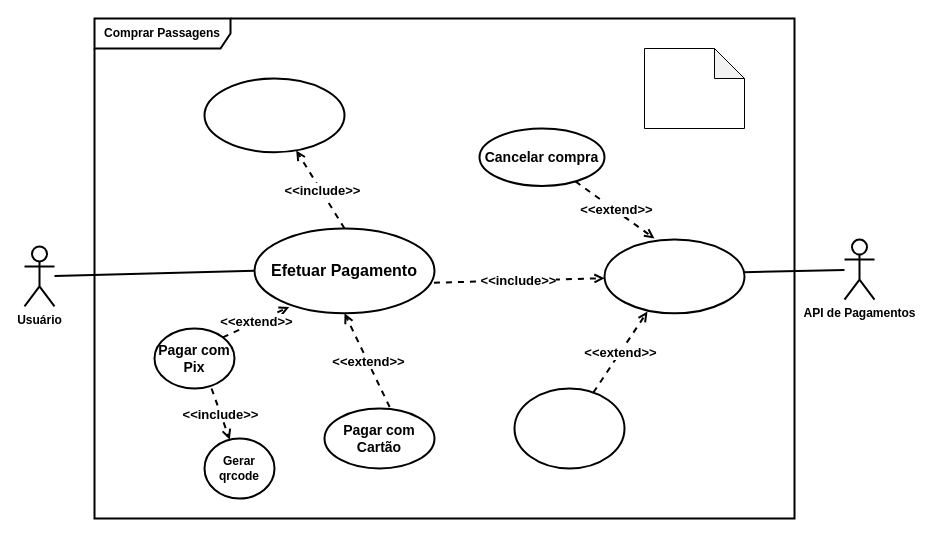
This 933x536 diagram has some shape labels left out. Each missing label, with the centre of its shape:
Adicionar dados do passageiro: the point at 274,115
Emitir Passagem: the point at 569,428
Processar Pagamento: the point at 674,276
Usuário deve estar logado: the point at 694,88
